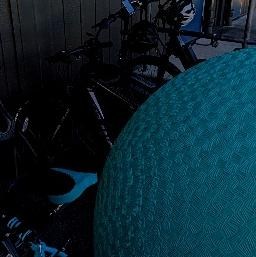algae: (99, 46, 256, 257)
